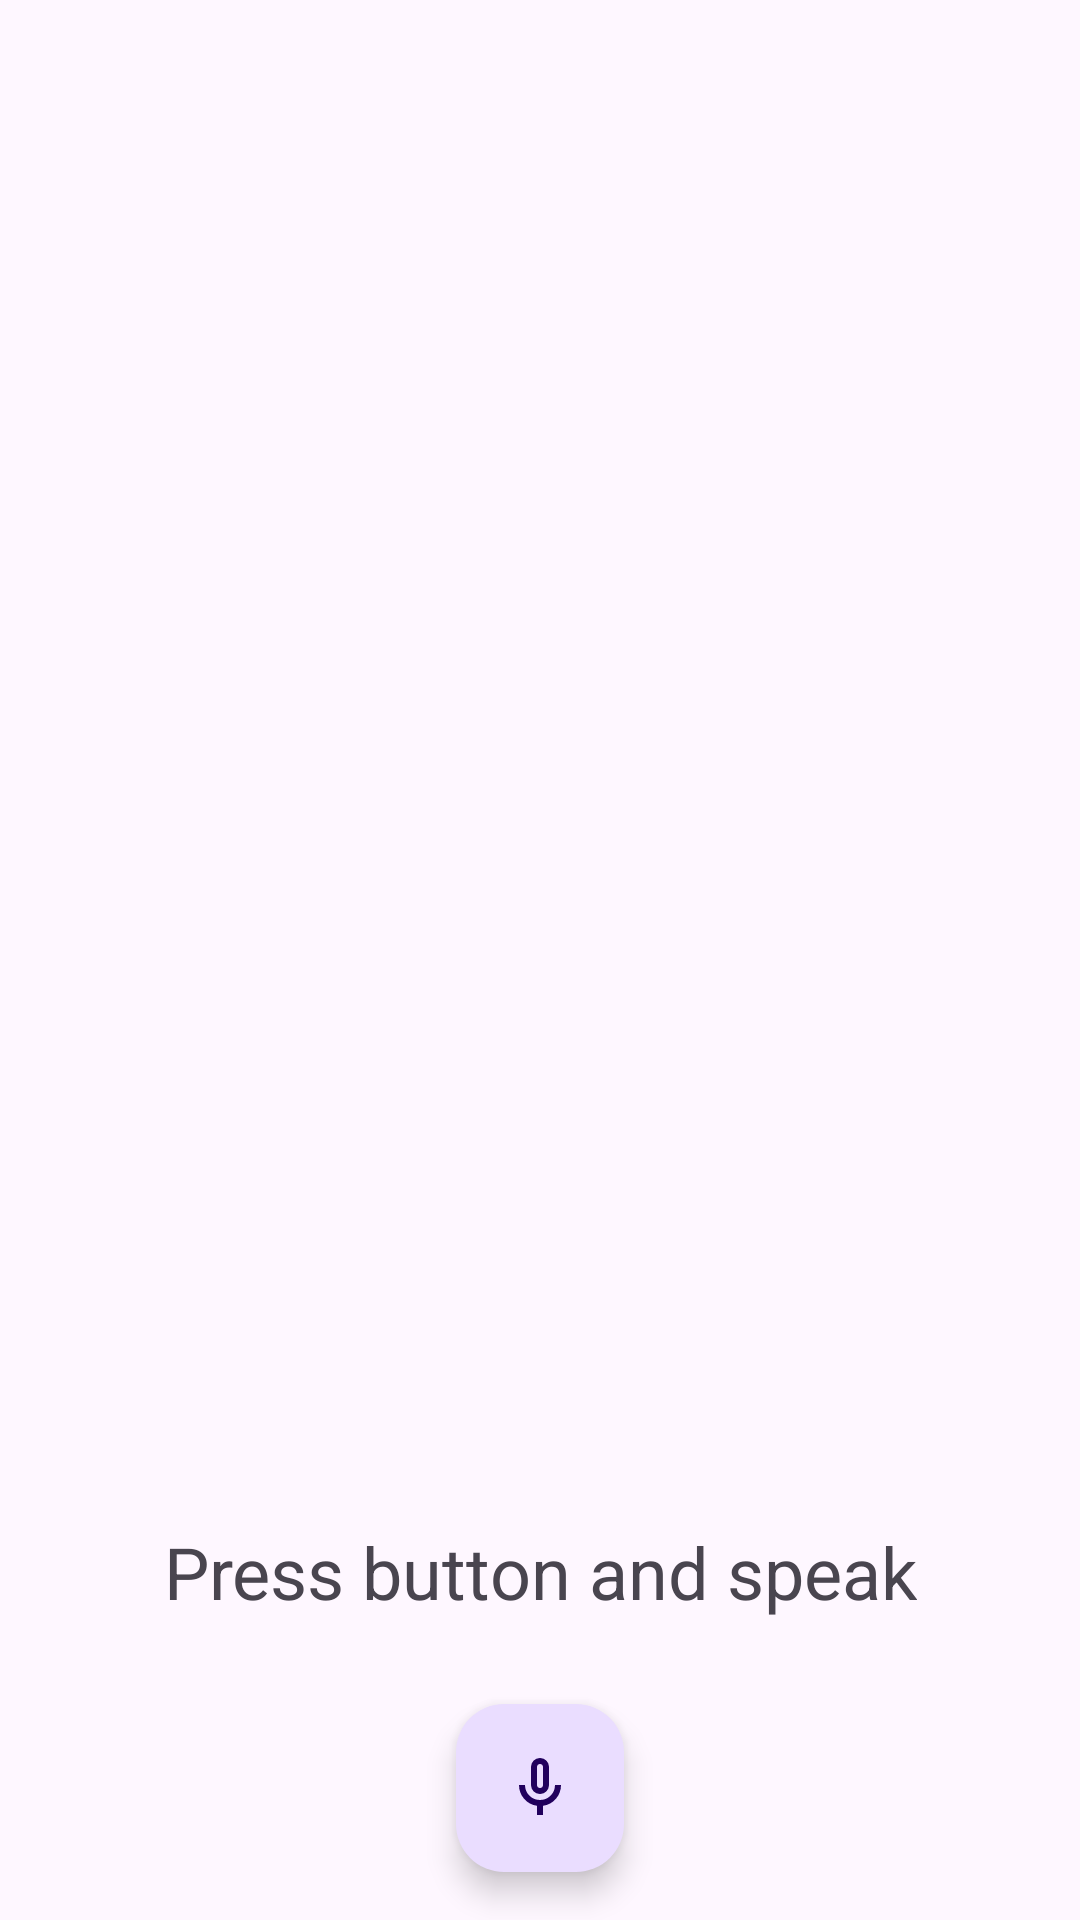

Icon click points for this 1080px×1920px phone screenshot, format point (x, y):
mic: point (540, 1788)
